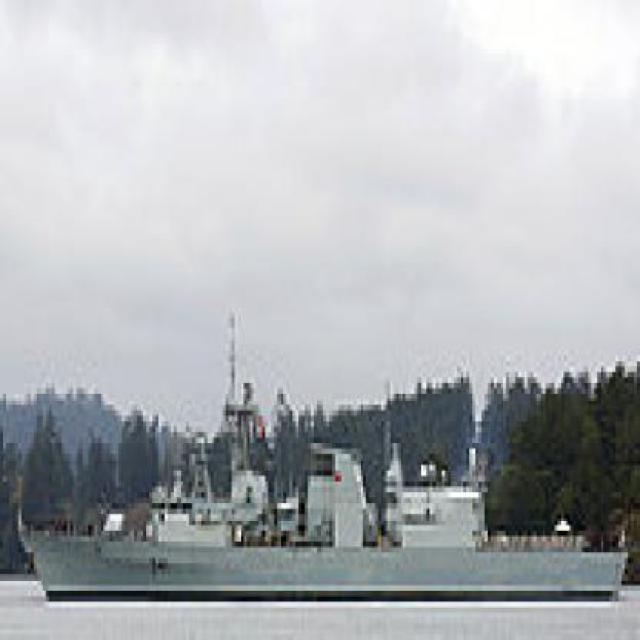warship2: (13, 307, 635, 609)
